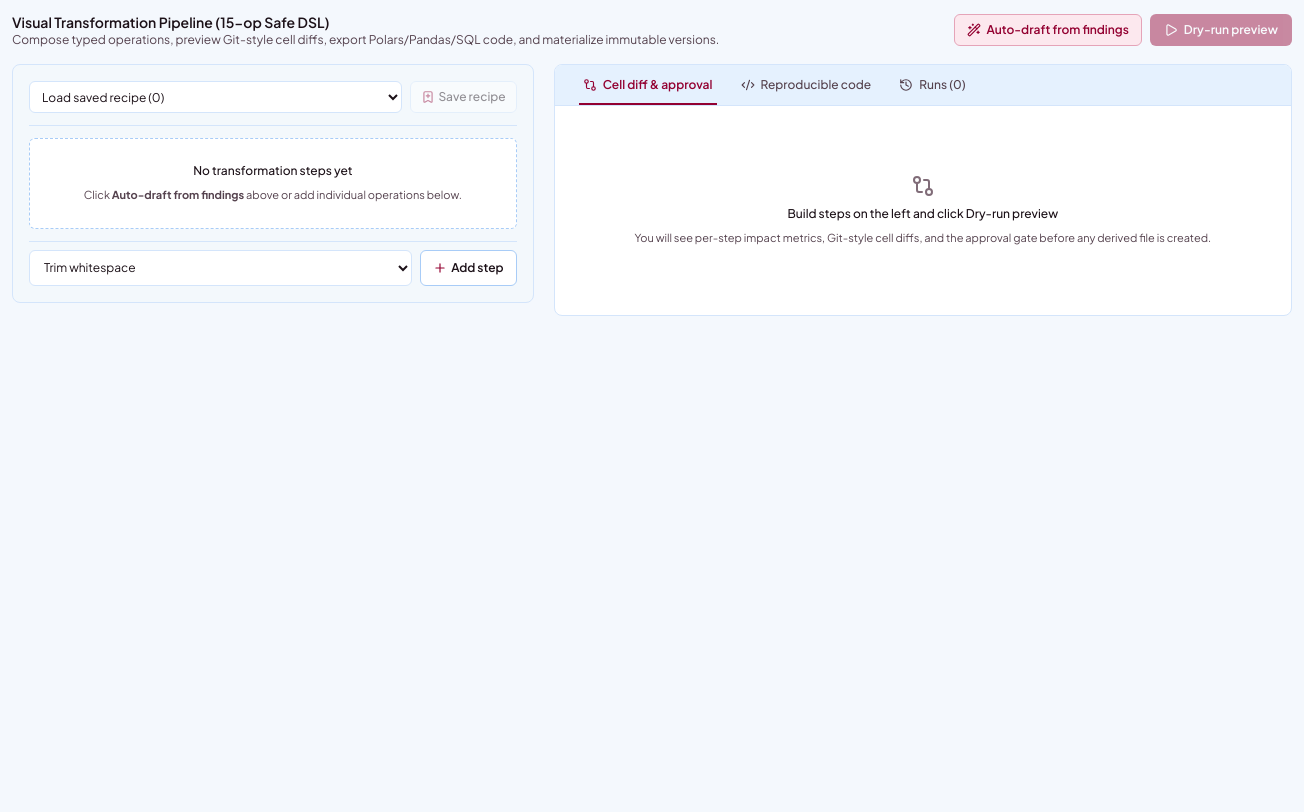
it: PipelineBuilder & LineageDag › auto-drafts steps, runs dry-run preview showing Git-style cell diffs, and exports Polars code
The width and height of the screenshot is (1304, 812).
Click the button "Auto-draft from findings": [1048, 30] box [954,14,1142,46]
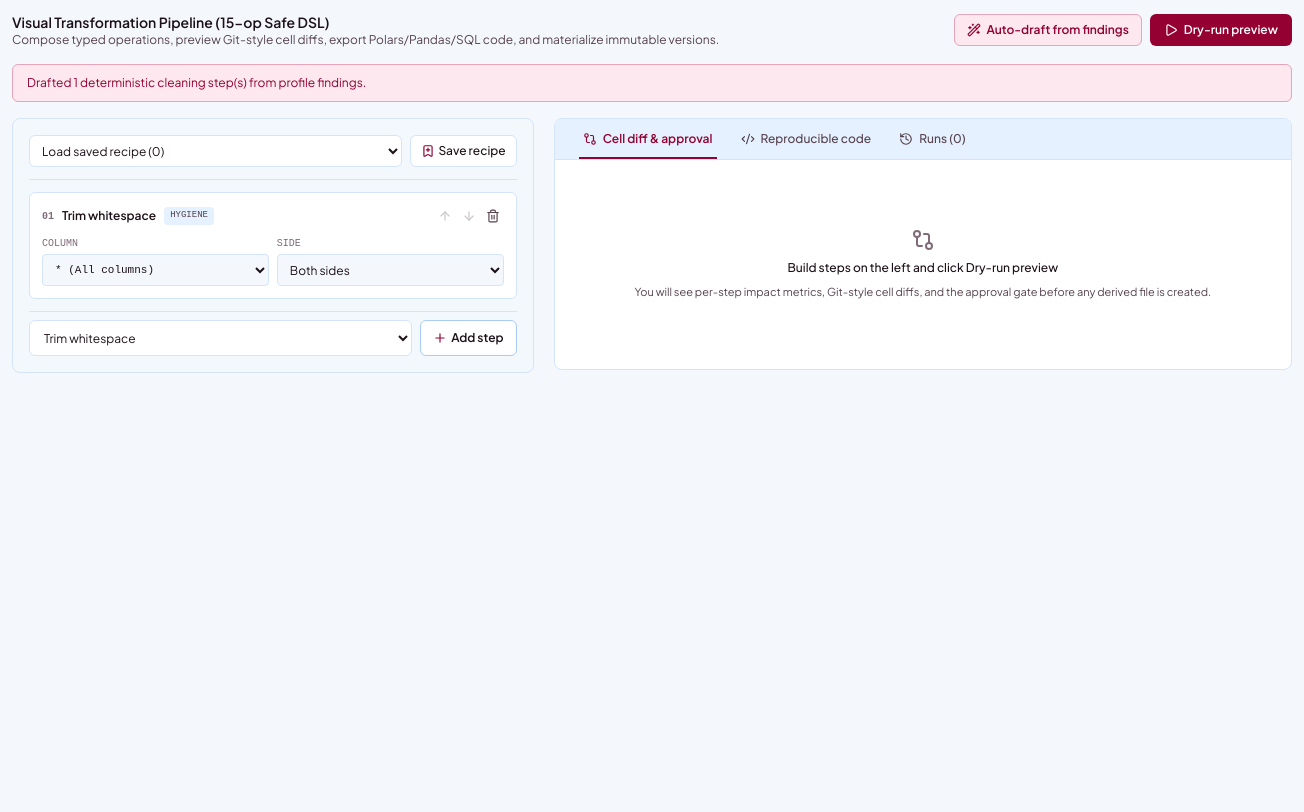
Result: the text "Drafted 1 deterministic cleaning step(s) from profile findings." is shown at [12,64,1292,102]
Click the button "Dry-run preview": [1221, 30] box [1150,14,1292,46]
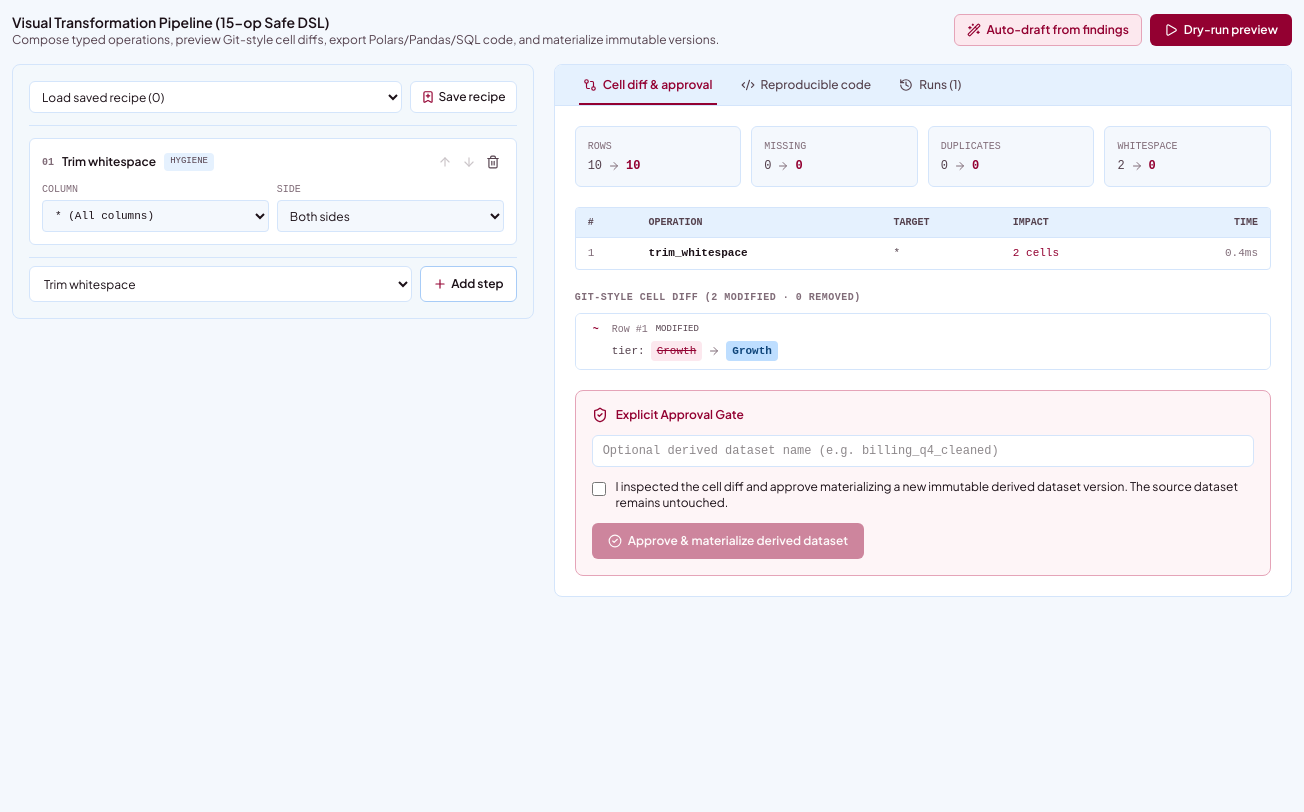
Result: the text "Row #1" is shown at [612,322,648,337]
Result: the text "Growth" is shown 2 times at [651,341,702,362]; [726,341,778,362]
Click the button "Reproducible code": [806, 85] box [728,65,883,105]
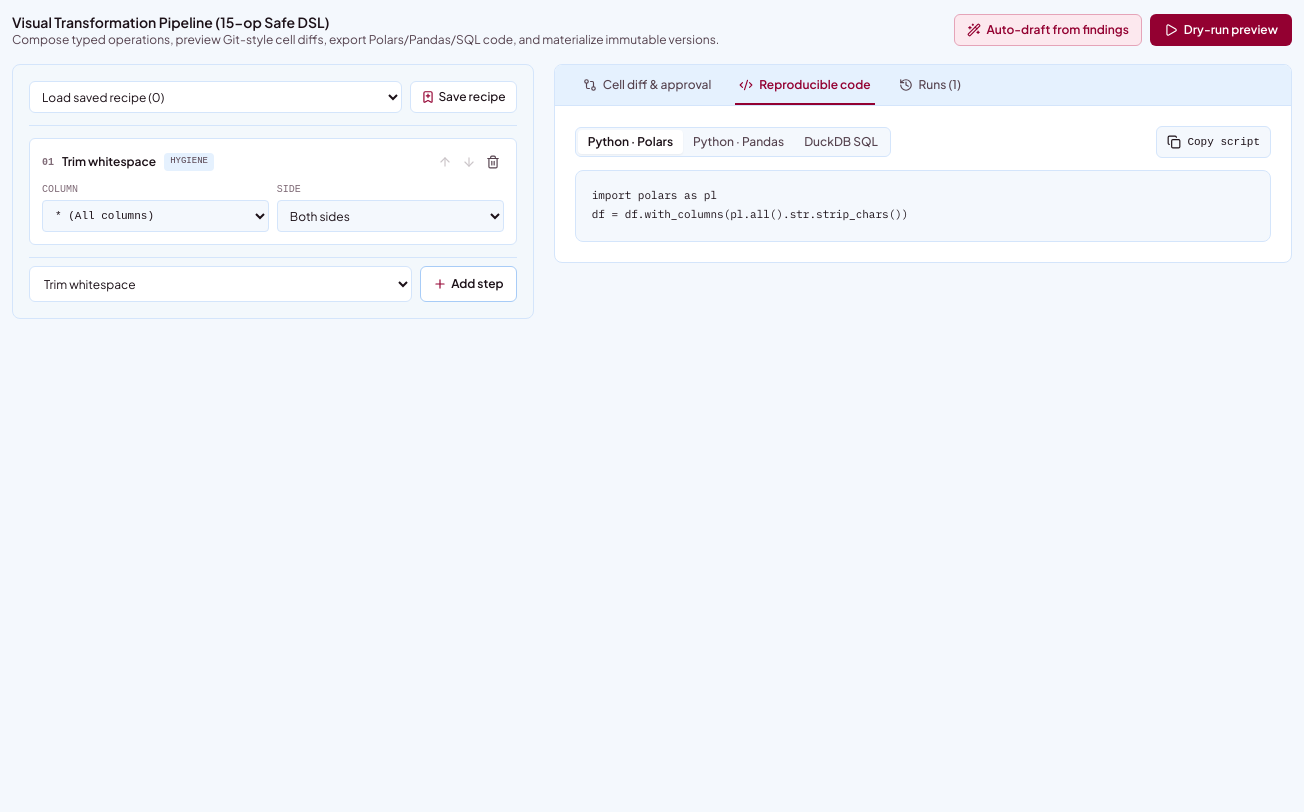
Result: the text "import polars as pl" is shown at [592,188,908,221]
